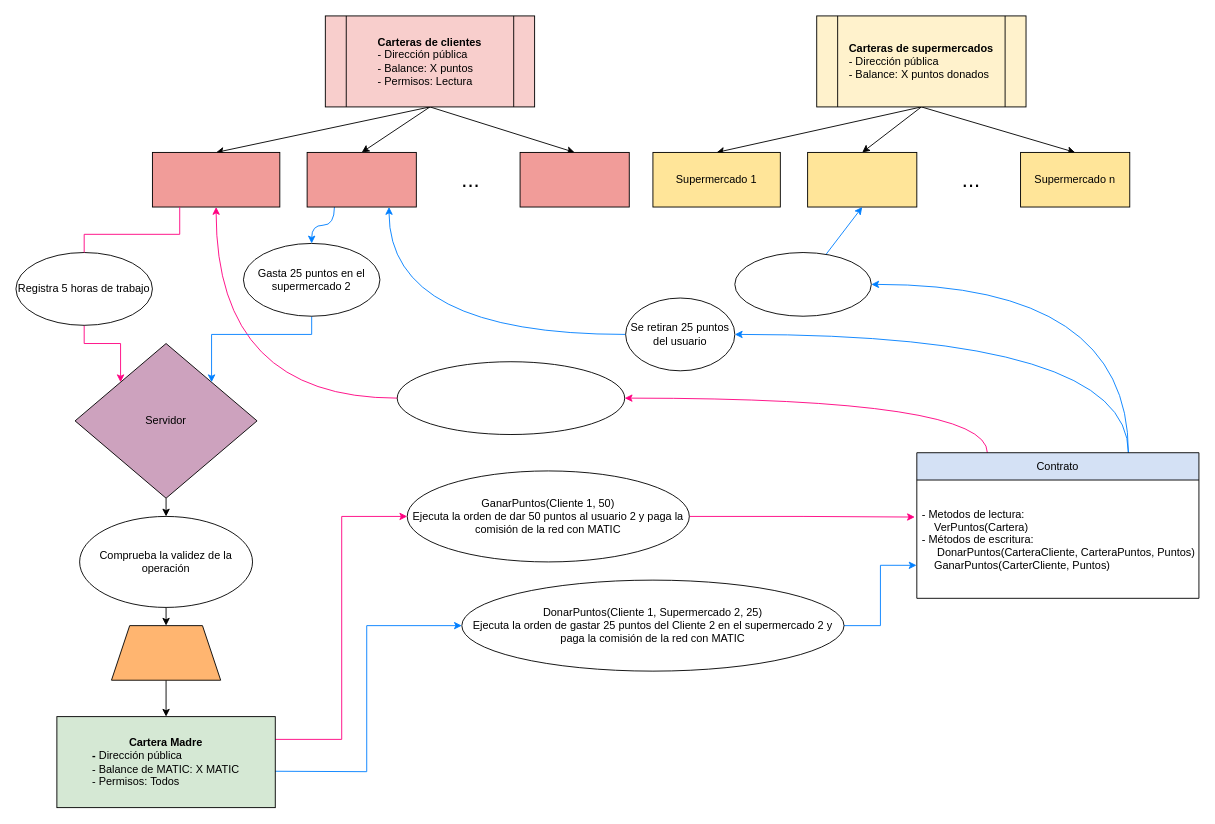
Image size: 1215x824. Some labels were removed from this diagram. The centre of each missing label's shape, as x and y in pixels:
"Se añaden 25 puntos al supermercado" belongs at point 802,284.
"Se suman 50 puntos a la cartera del cliente" belongs at point 510,398.
"Supermercado 2" belongs at point 862,179.
"Usuario 1" belongs at point 216,179.
"Usuario 2" belongs at point 361,179.
"Usuario n" belongs at point 574,179.
"Web3" belongs at point 166,652.
